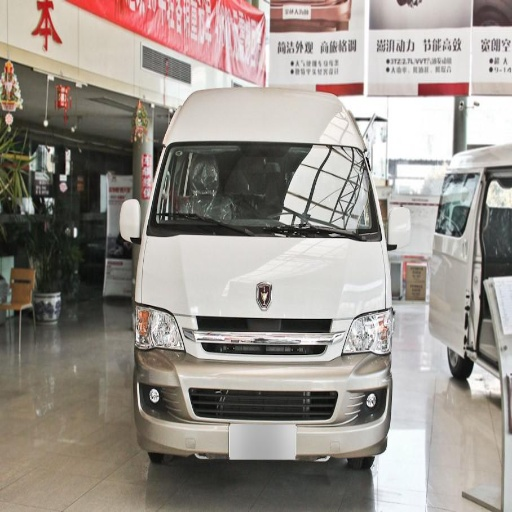front_bumper: (134, 314, 391, 460)
front_right_light: (132, 301, 182, 350)
